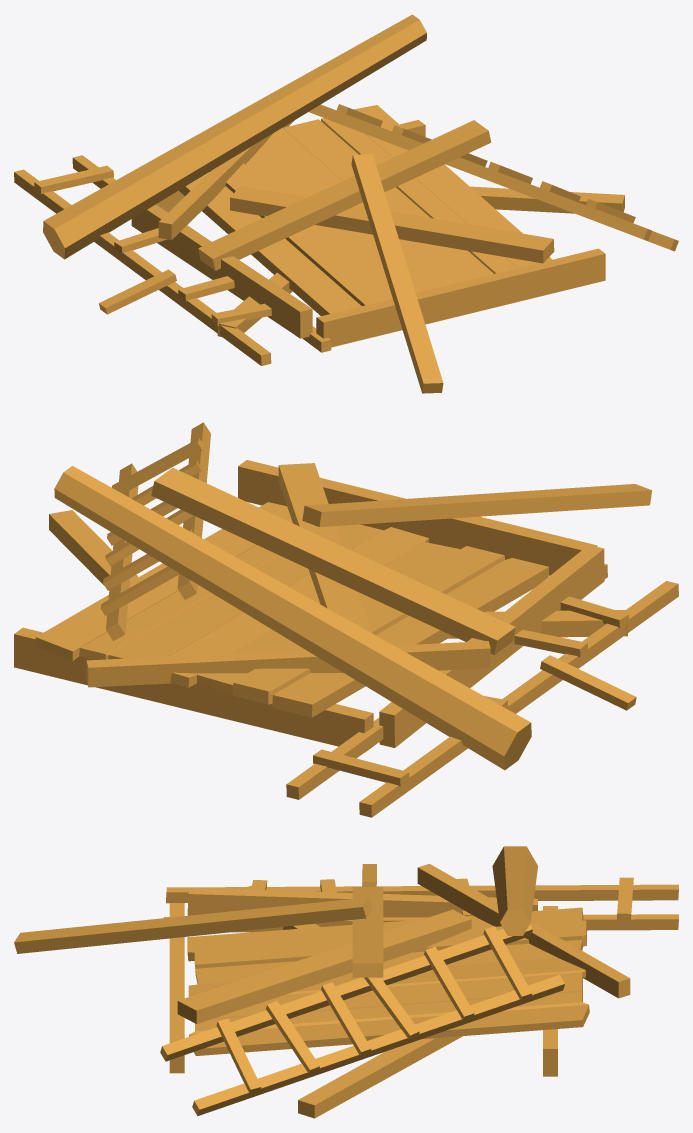
File: BrokenSignalTower.fbx
The picture shows the model from 3 angles, top to bottom: view 1: azimuth 30°, elevation 25°; view 2: azimuth 150°, elevation 25°; view 3: azimuth 270°, elevation 25°; orthographic projection. The views are drawn at different scales.
Parts seen in each view (by area): view 1: tower-pirate-wood.020, tower-pirate-wood.007, tower-pirate-wood.018, tower-pirate-wood.012, tower-pirate-wood.011, tower-pirate-wood.021, tower-pirate-wood, tower-pirate-wood.013, tower-pirate-wood.022, tower-pirate-wood.016, tower-pirate-wood.004, tower-pirate-wood.002 (+2 smaller); view 2: tower-pirate-wood.020, tower-pirate-wood.007, tower-pirate-wood.012, tower-pirate-wood.011, tower-pirate-wood.019, tower-pirate-wood.018, tower-pirate-wood.013, tower-pirate-wood.016, tower-pirate-wood, tower-pirate-wood.022, tower-pirate-wood.021, tower-pirate-wood.004 (+2 smaller); view 3: tower-pirate-wood.020, tower-pirate-wood, tower-pirate-wood.013, tower-pirate-wood.021, tower-pirate-wood.011, tower-pirate-wood.022, tower-pirate-wood.016, tower-pirate-wood.004, tower-pirate-wood.007, tower-pirate-wood.012, tower-pirate-wood.018, tower-pirate-wood.019.
Part boxes in pixels (left/top/right/bottom): tower-pirate-wood.020: left=179, top=105, right=552, bottom=315; tower-pirate-wood.007: left=43, top=14, right=426, bottom=259; tower-pirate-wood.018: left=316, top=248, right=605, bottom=347; tower-pirate-wood.012: left=198, top=120, right=491, bottom=270; tower-pirate-wood.011: left=14, top=155, right=331, bottom=365; tower-pirate-wood.021: left=230, top=186, right=554, bottom=263; tower-pirate-wood: left=309, top=104, right=678, bottom=251; tower-pirate-wood.013: left=351, top=154, right=443, bottom=393; tower-pirate-wood.022: left=131, top=204, right=312, bottom=338; tower-pirate-wood.016: left=158, top=120, right=294, bottom=239; tower-pirate-wood.004: left=470, top=186, right=624, bottom=213; tower-pirate-wood.002: left=99, top=269, right=176, bottom=314; tower-pirate-wood.020: left=35, top=502, right=549, bottom=717; tower-pirate-wood.007: left=54, top=466, right=531, bottom=770; tower-pirate-wood.012: left=151, top=467, right=515, bottom=654; tower-pirate-wood.011: left=286, top=564, right=678, bottom=817; tower-pirate-wood.019: left=14, top=627, right=373, bottom=752; tower-pirate-wood.018: left=238, top=460, right=597, bottom=575; tower-pirate-wood.013: left=302, top=484, right=651, bottom=527; tower-pirate-wood.016: left=86, top=641, right=490, bottom=687; tower-pirate-wood: left=100, top=422, right=210, bottom=641; tower-pirate-wood.022: left=379, top=545, right=604, bottom=747; tower-pirate-wood.021: left=278, top=463, right=372, bottom=633; tower-pirate-wood.004: left=49, top=510, right=138, bottom=590; tower-pirate-wood.020: left=187, top=907, right=589, bottom=1055; tower-pirate-wood: left=160, top=924, right=564, bottom=1116; tower-pirate-wood.013: left=14, top=897, right=372, bottom=953; tower-pirate-wood.021: left=177, top=909, right=471, bottom=1023; tower-pirate-wood.011: left=163, top=877, right=678, bottom=932; tower-pirate-wood.022: left=187, top=887, right=537, bottom=917; tower-pirate-wood.016: left=417, top=864, right=630, bottom=998; tower-pirate-wood.004: left=298, top=1036, right=462, bottom=1118; tower-pirate-wood.007: left=492, top=846, right=537, bottom=935; tower-pirate-wood.012: left=352, top=887, right=383, bottom=977; tower-pirate-wood.018: left=169, top=903, right=184, bottom=1073; tower-pirate-wood.019: left=543, top=906, right=557, bottom=1076.
Size of the model in its own units: 508 by 148 by 568.
